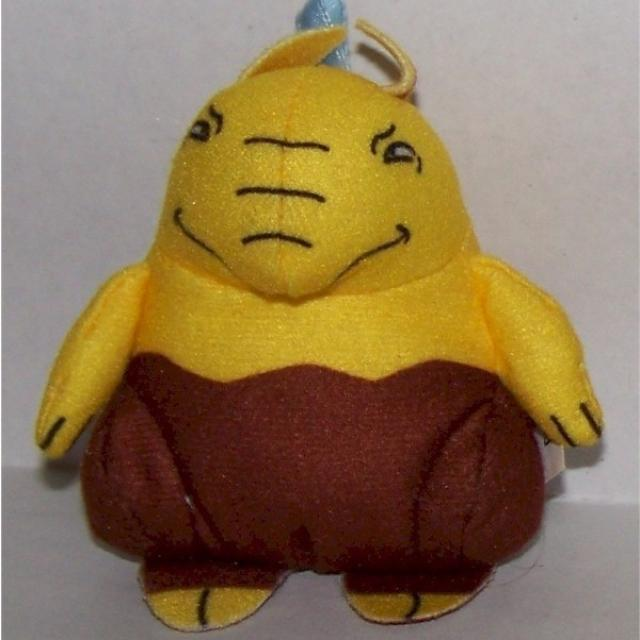Drowzee: (85, 38, 542, 638)
